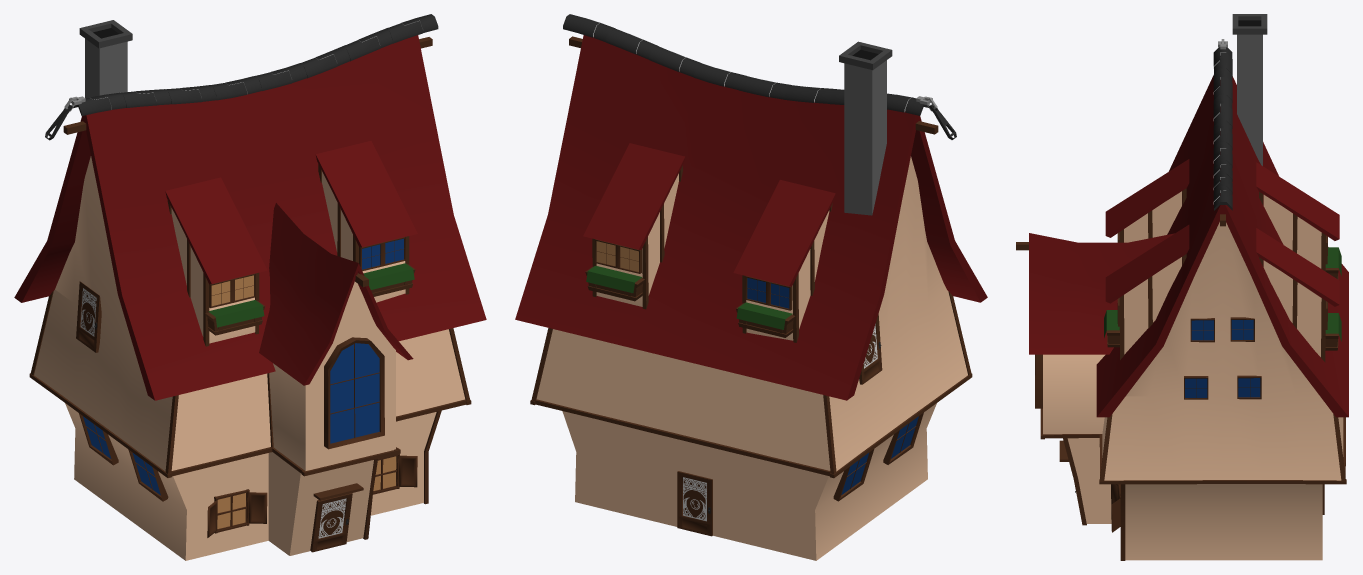
The model's file is HouseVariation.2.fbx.
3 renders of one model, left to right at view 1: azimuth 30°, elevation 25°; view 2: azimuth 150°, elevation 25°; view 3: azimuth 270°, elevation 25°, orthographic. The views are drawn at different scales.
Visible parts, largest first — view 1: HouseVariation.2; view 2: HouseVariation.2; view 3: HouseVariation.2.
Boxes of the visible parts, box(x1,y1,x2,y2) form: HouseVariation.2: box(14, 14, 486, 560); HouseVariation.2: box(515, 14, 987, 560); HouseVariation.2: box(1016, 14, 1348, 560).
Size of the model in its own units: 1802 by 2139 by 1500.
